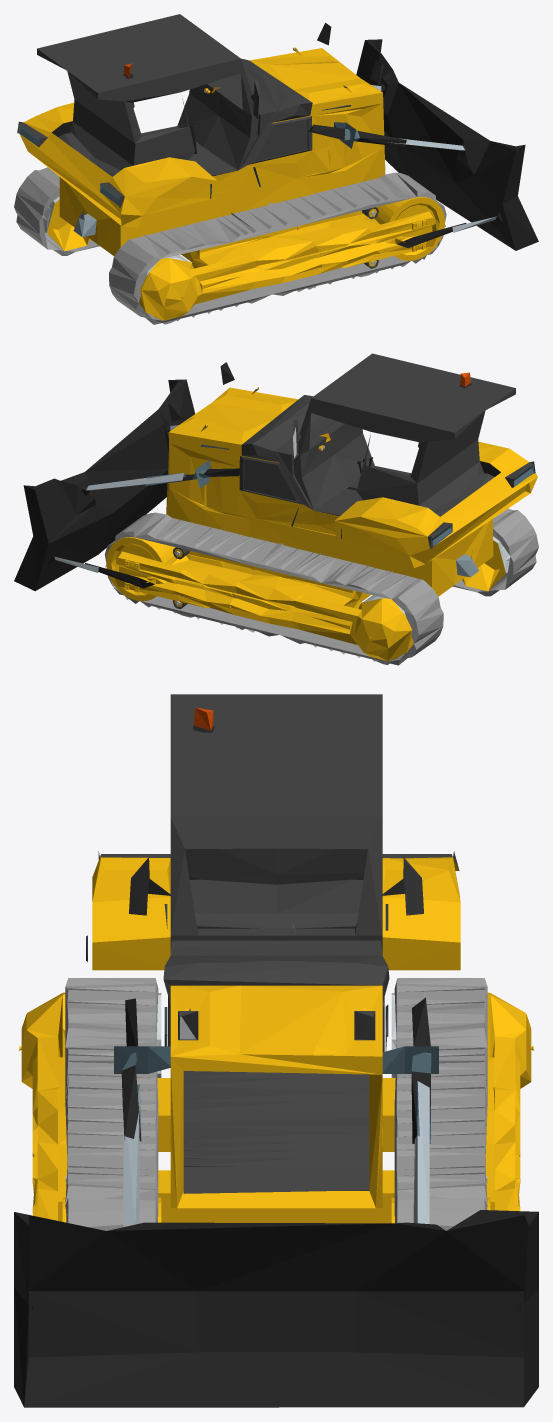
The model's file is dozer-mini.glb.
The picture shows the model from 3 angles, top to bottom: view 1: azimuth 30°, elevation 25°; view 2: azimuth 150°, elevation 25°; view 3: azimuth 270°, elevation 25°; orthographic projection. The views are drawn at different scales.
Parts seen in each view (by area): view 1: object 1, Cylinder.032, Cube.050, Cube.045, Cylinder.031, Cylinder.001; view 2: object 1, Cylinder.001, Cube.045, Cube.050, Cylinder, Cylinder.032; view 3: object 1, Cube.050, Cube.045, Cylinder.032, Cylinder.001.
Part boxes in pixels (left/top/right/bottom): object 1: left=17, top=14, right=538, bottom=262; Cylinder.032: left=138, top=210, right=503, bottom=320; Cube.050: left=109, top=172, right=446, bottom=324; Cube.045: left=14, top=167, right=99, bottom=255; Cylinder.031: left=374, top=197, right=445, bottom=260; Cylinder.001: left=42, top=196, right=90, bottom=251; object 1: left=14, top=353, right=537, bottom=602; Cylinder.001: left=46, top=551, right=413, bottom=661; Cube.045: left=104, top=512, right=443, bottom=665; Cube.050: left=452, top=508, right=538, bottom=596; Cylinder: left=106, top=537, right=176, bottom=601; Cylinder.032: left=462, top=536, right=510, bottom=591; object 1: left=14, top=694, right=538, bottom=1407; Cube.050: left=65, top=978, right=158, bottom=1230; Cube.045: left=394, top=978, right=487, bottom=1230; Cylinder.032: left=21, top=992, right=161, bottom=1310; Cylinder.001: left=391, top=992, right=531, bottom=1310.
Size of the model in its own units: 14.4 by 7.97 by 9.43.
Materials: 1 (1 with a texture image).
